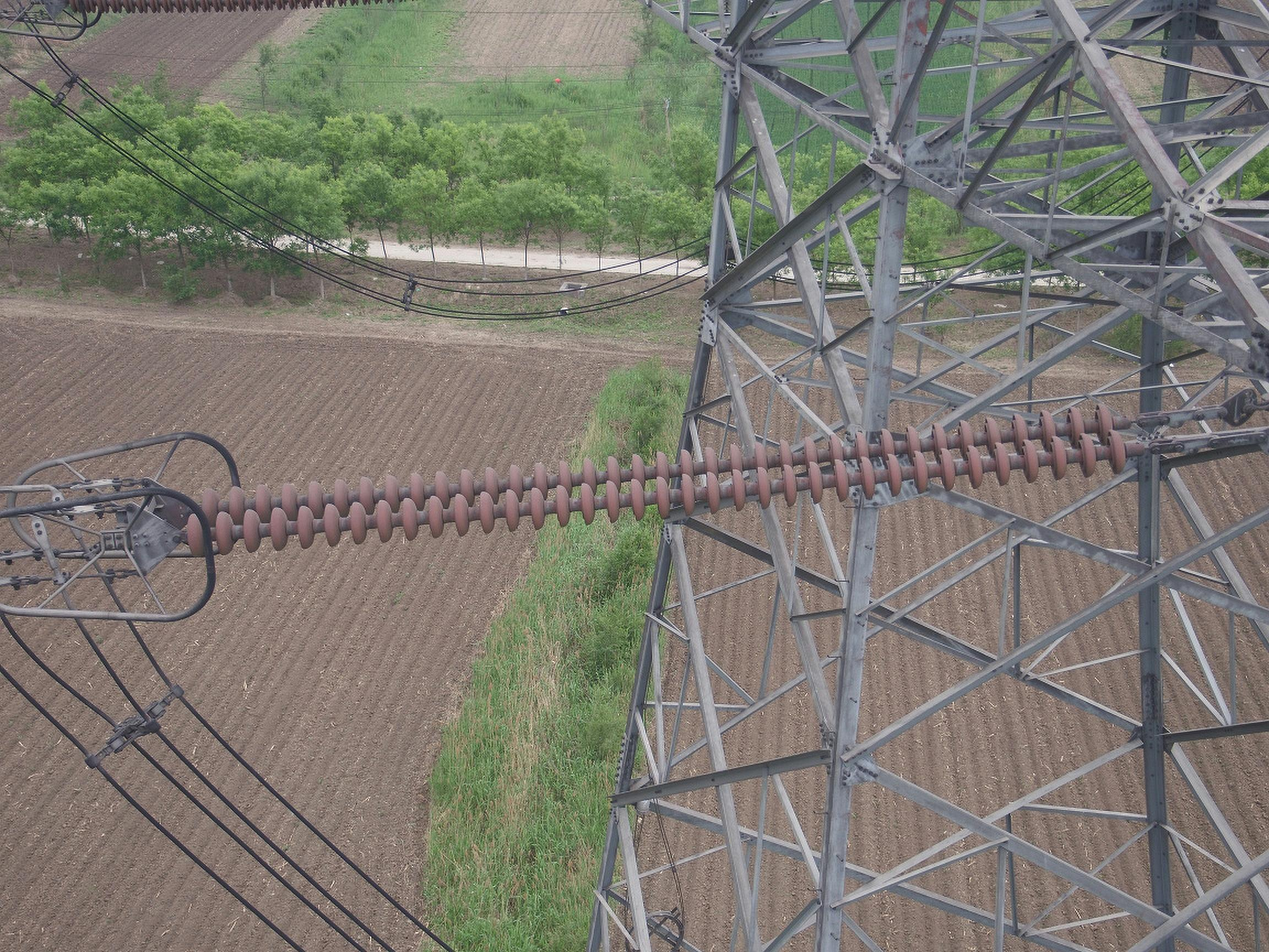insulator: (177, 398, 1136, 564)
